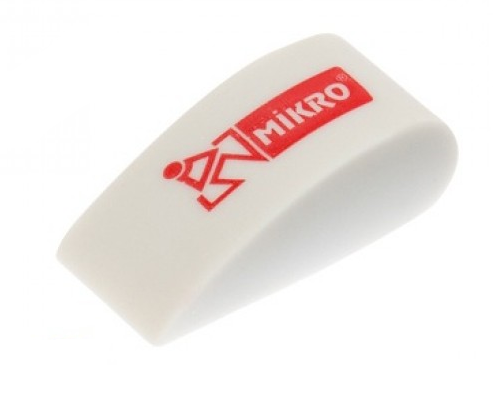eraser: (51, 23, 463, 356)
